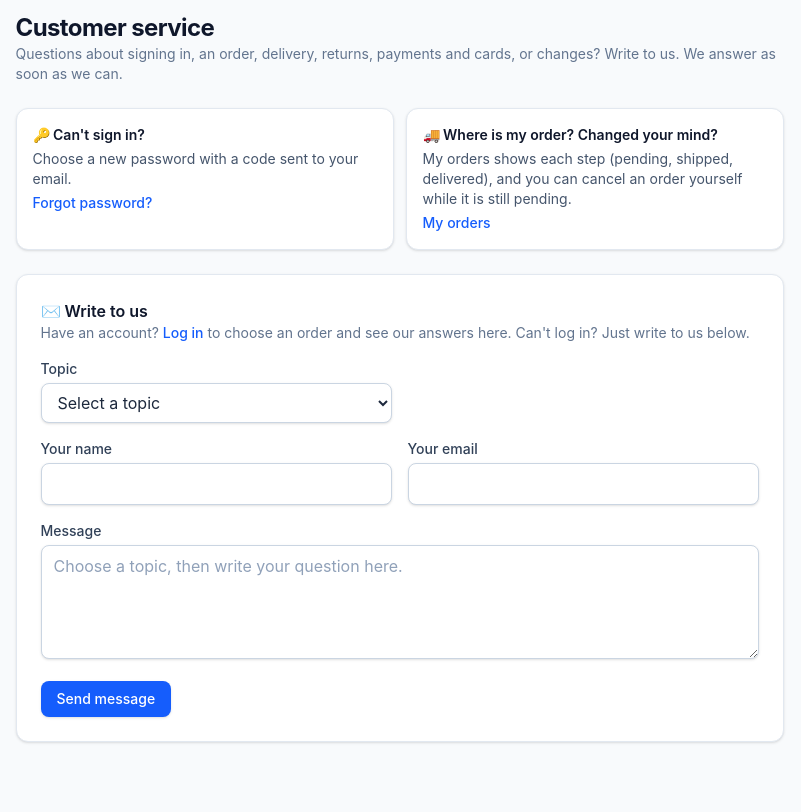
Test: a visitor who can't sign in writes with a name and an email, and is told where the answer goes
The width and height of the screenshot is (801, 812).
Click the button "Send message": (106, 699) [40,681,171,717]
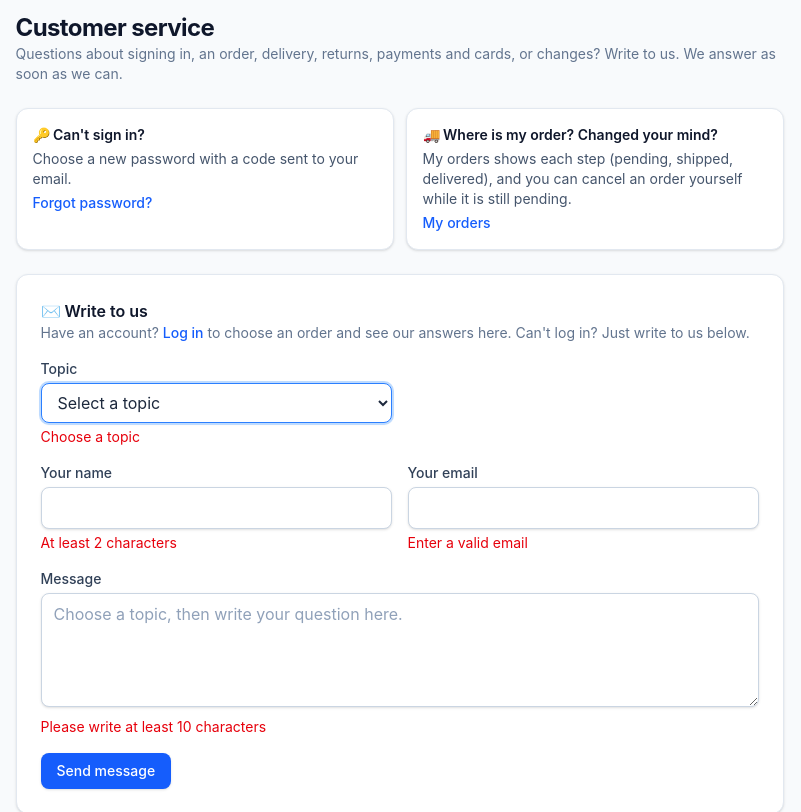
Check: the text "Choose a topic" is shown, box [40,428,140,445]
Check: the text "At least 2 characters" is shown, box [40,534,177,551]
Check: the text "Enter a valid email" is shown, box [408,534,528,551]
Select "Signing in and my account" in the dropdown labelled "Topic": (216, 403) [40,383,392,423]
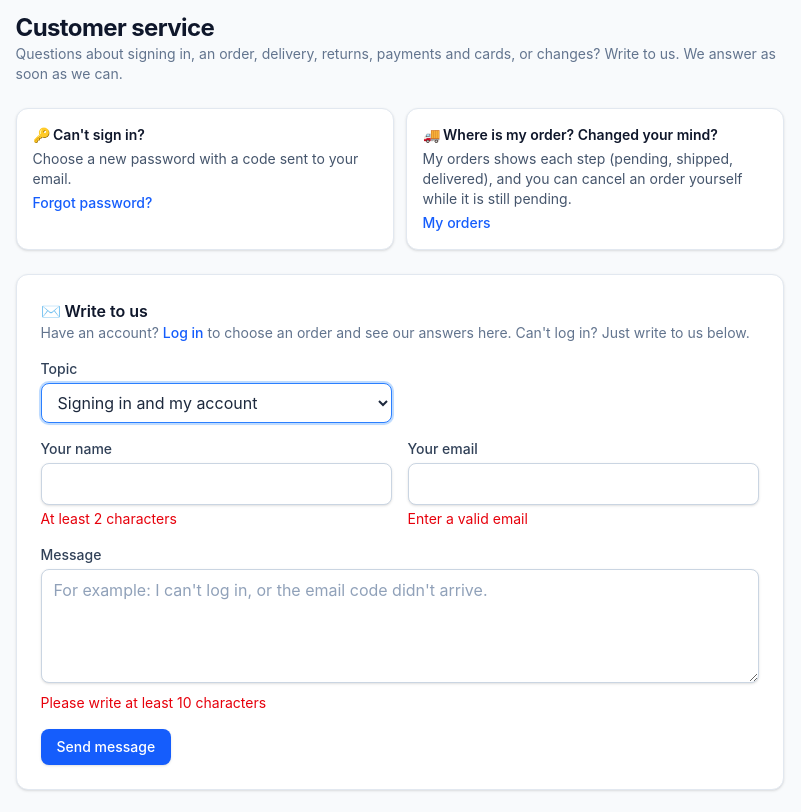
Check: the text box labelled "Message" has attribute placeholder="For example: I can't log in, or the email code didn't arrive.", box [40,569,758,683]
In the field labelled "Your name": (216, 484) [40,463,392,505], type "Nadia"
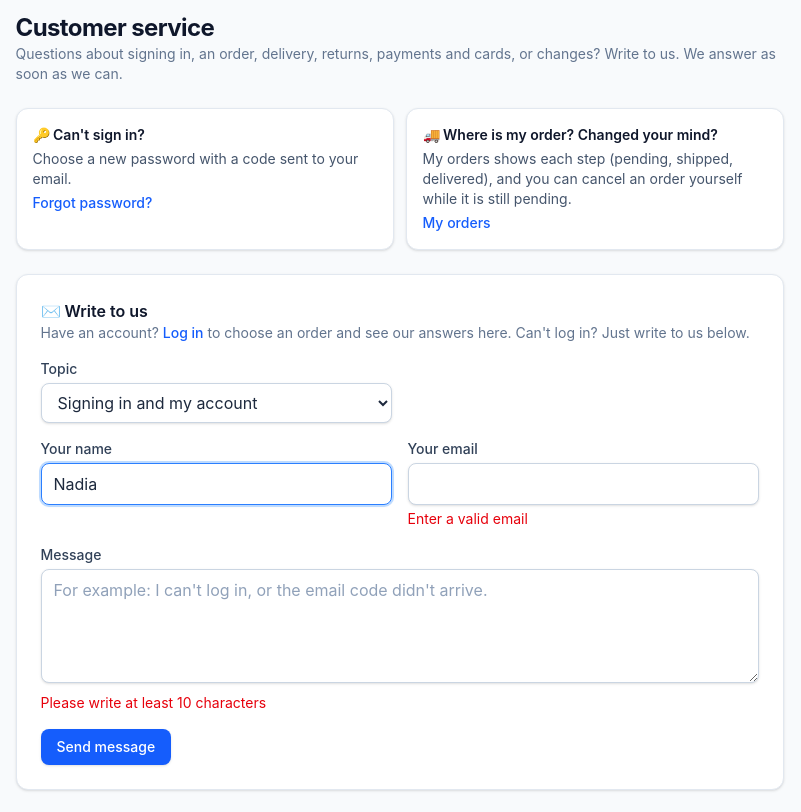
In the field labelled "Your email": (583, 484) [408,463,758,505], type "Nadia@Mail.dev"
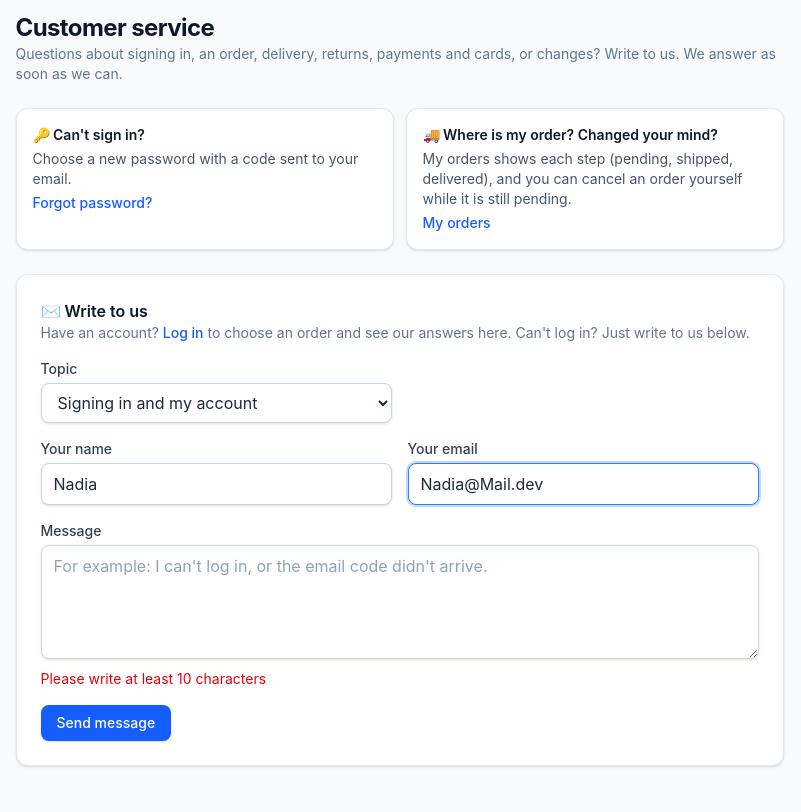
In the text box labelled "Message": (400, 602) [40,545,758,659], type "I can't log in to my account."
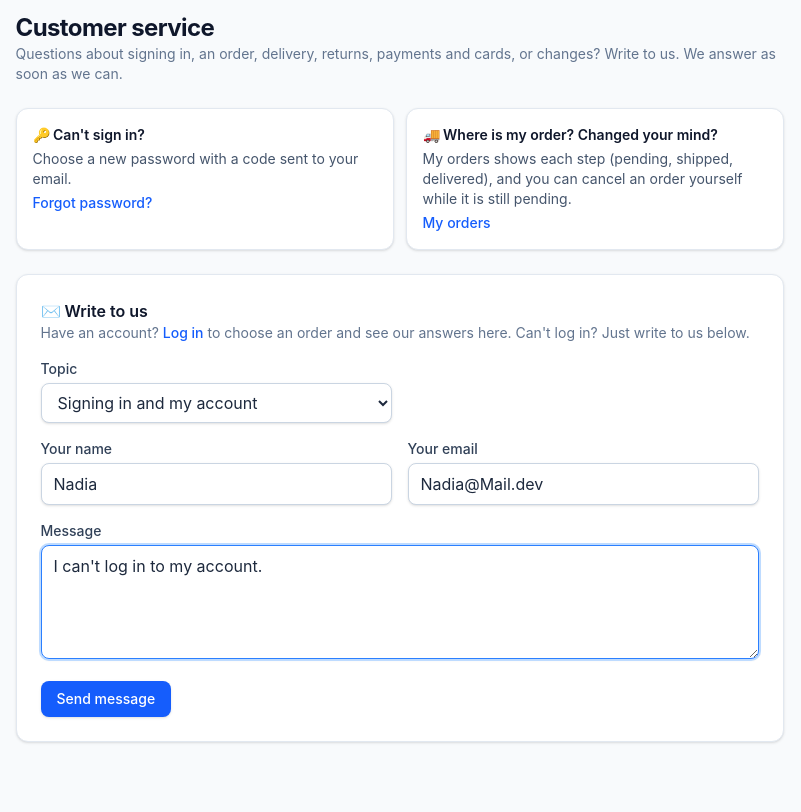
Click the button "Send message": (106, 699) [40,681,171,717]
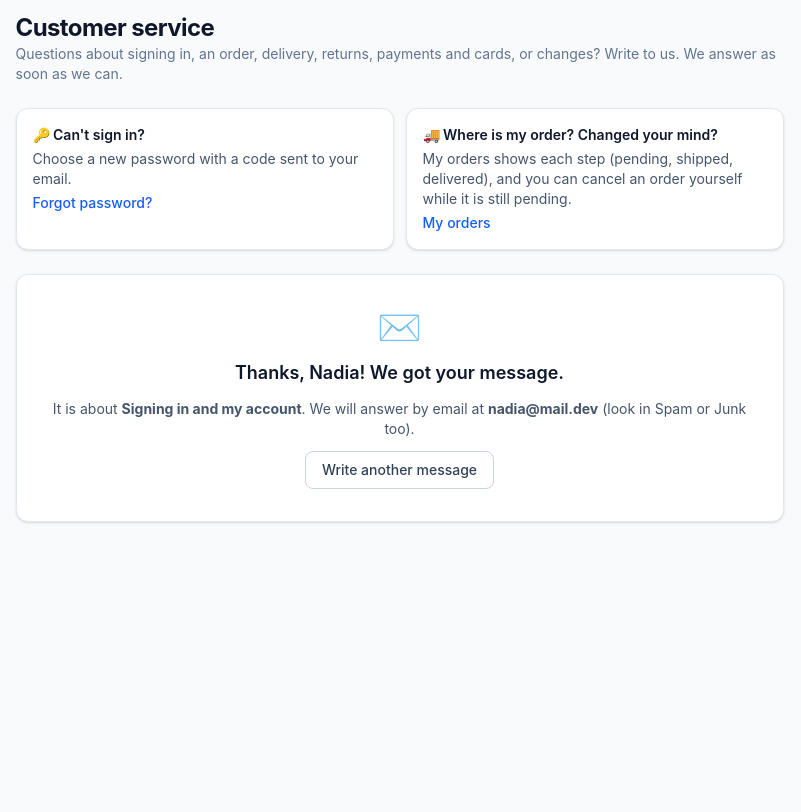
Check: the heading "Thanks, Nadia! We got your message." is shown, box [235,362,564,383]
Check: the text "nadia@mail.dev" is shown, box [488,400,598,417]
